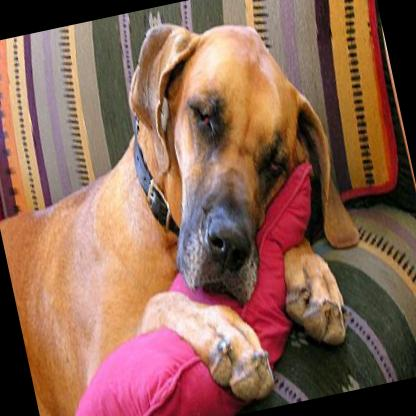Great_Dane: (0, 0, 389, 416)
